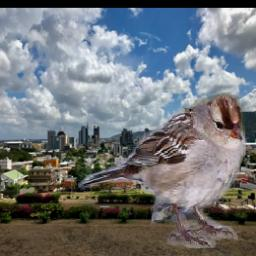Sparrow: (79, 92, 251, 248)
